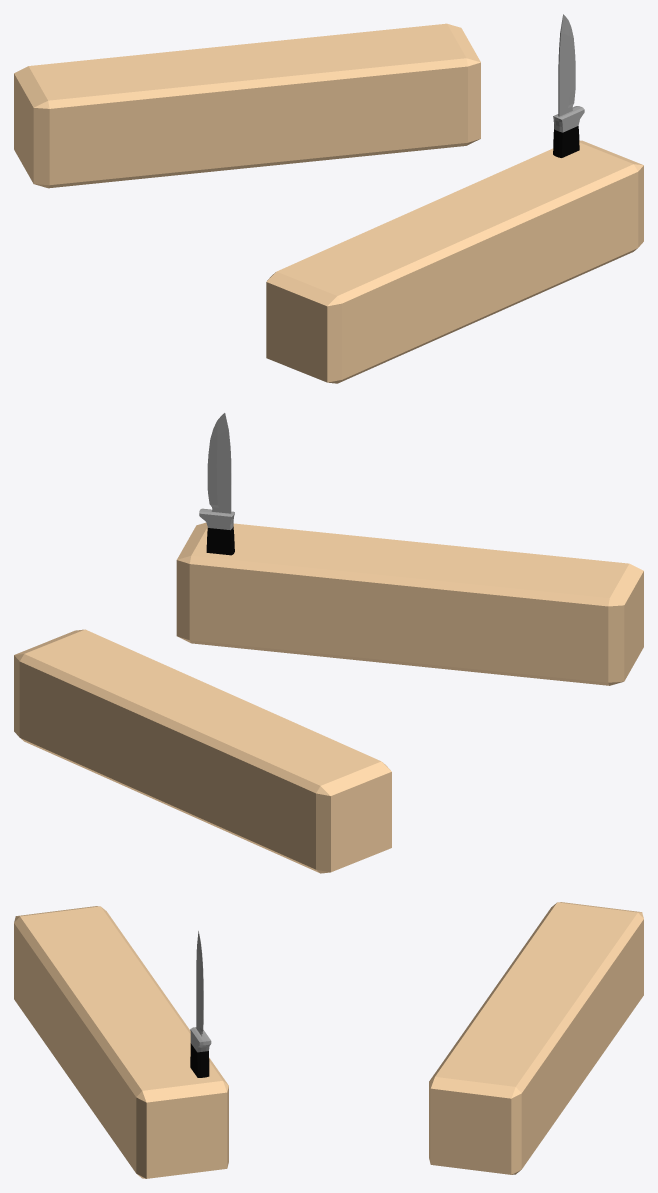
File: Project Name.obj
3 views of the same model, one above another, from view 1: azimuth 30°, elevation 25°; view 2: azimuth 150°, elevation 25°; view 3: azimuth 270°, elevation 25° (orthographic).
Parts seen in each view (by area): view 1: 002_Mesh_1, 003_Mesh, 000_Buffer_Layer_1, 001_Buffer_Layer; view 2: 003_Mesh, 002_Mesh_1, 000_Buffer_Layer_1, 001_Buffer_Layer; view 3: 002_Mesh_1, 003_Mesh, 000_Buffer_Layer_1, 001_Buffer_Layer.
Boxes of the visible parts, box(x1,y1,x2,y2) form: 002_Mesh_1: box(14, 23, 480, 188); 003_Mesh: box(266, 140, 643, 383); 000_Buffer_Layer_1: box(553, 14, 584, 132); 001_Buffer_Layer: box(553, 126, 579, 157); 003_Mesh: box(176, 522, 643, 685); 002_Mesh_1: box(14, 629, 391, 873); 000_Buffer_Layer_1: box(199, 413, 234, 530); 001_Buffer_Layer: box(206, 526, 234, 555); 002_Mesh_1: box(429, 902, 643, 1174); 003_Mesh: box(14, 906, 228, 1178); 000_Buffer_Layer_1: box(190, 931, 211, 1052); 001_Buffer_Layer: box(190, 1043, 209, 1077).
Size of the model in its own units: 36.85 by 19.86 by 49.89.
